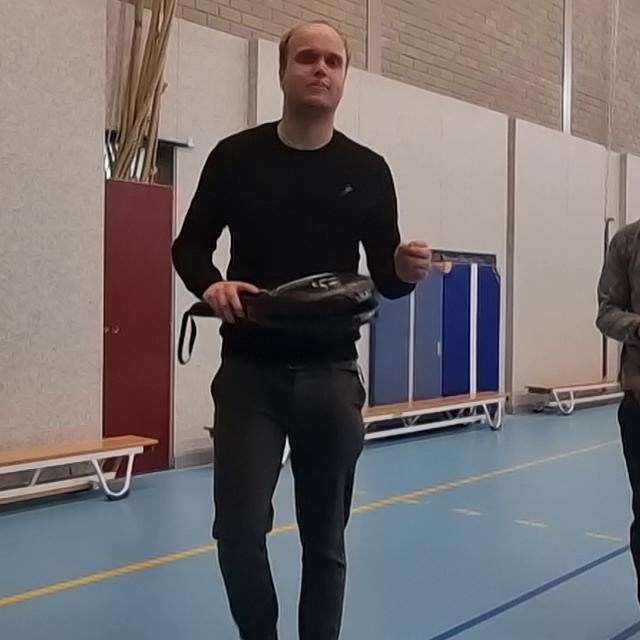paddle: (271, 269, 381, 332)
